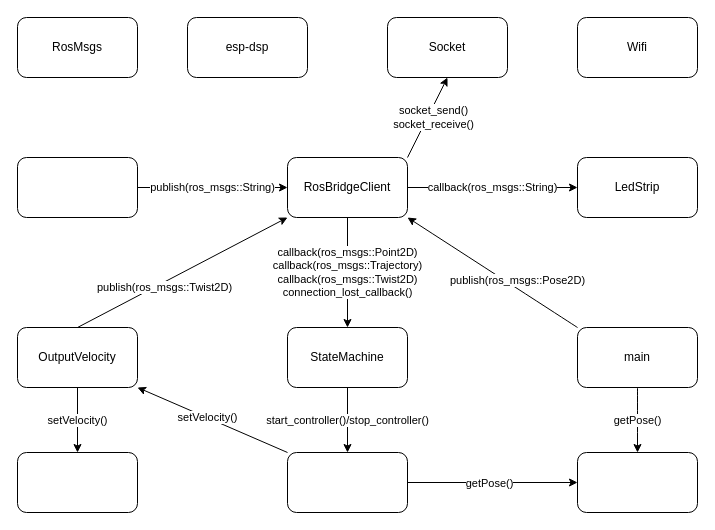
This 715x530 diagram has some shape labels left out. Here are the shapes that lost their labels. From the top down, the centre of each, then its label:
At point (77, 187): "DataLogger".
At point (77, 482): "MotorController".
At point (347, 482): "PositionController".
At point (637, 482): "SensorPose".
